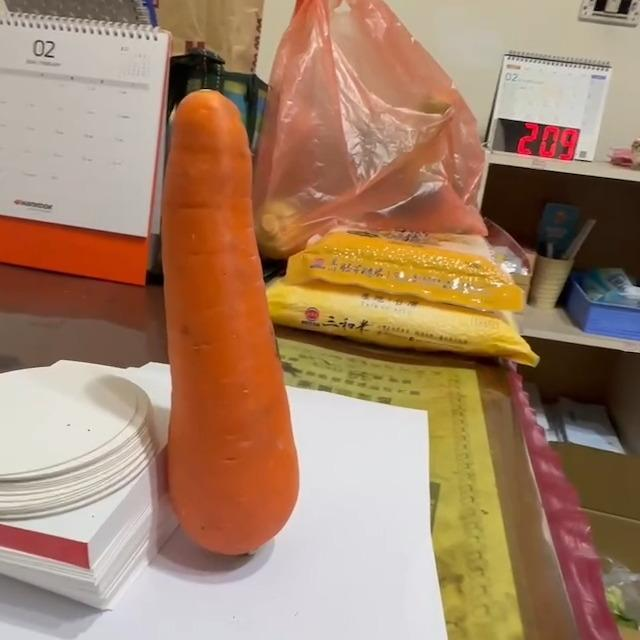carrot: (165, 85, 303, 564)
